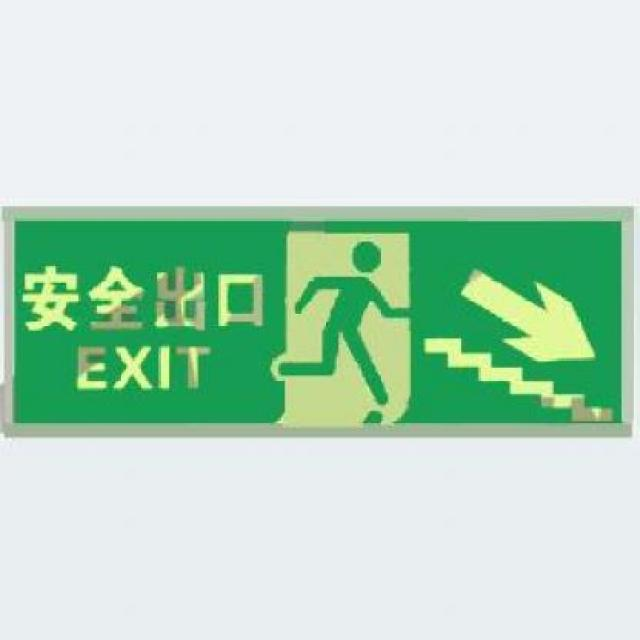exit_sign: (9, 200, 640, 465)
